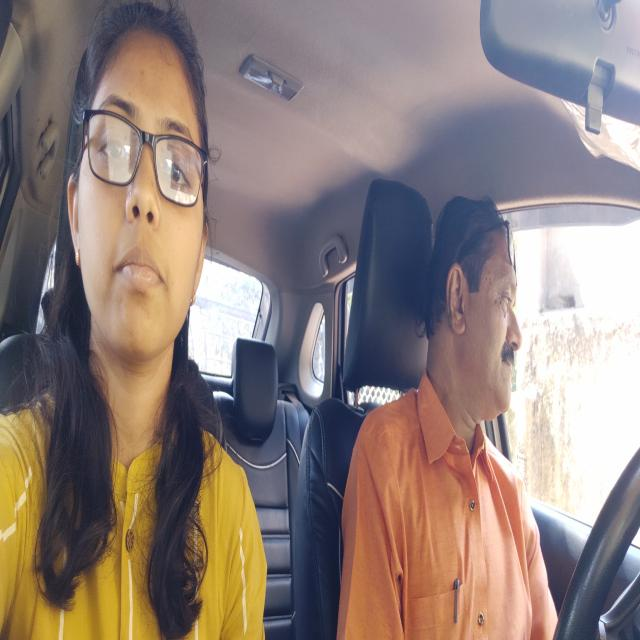LeftRight: (424, 187, 524, 424)
person: (58, 0, 216, 385)
